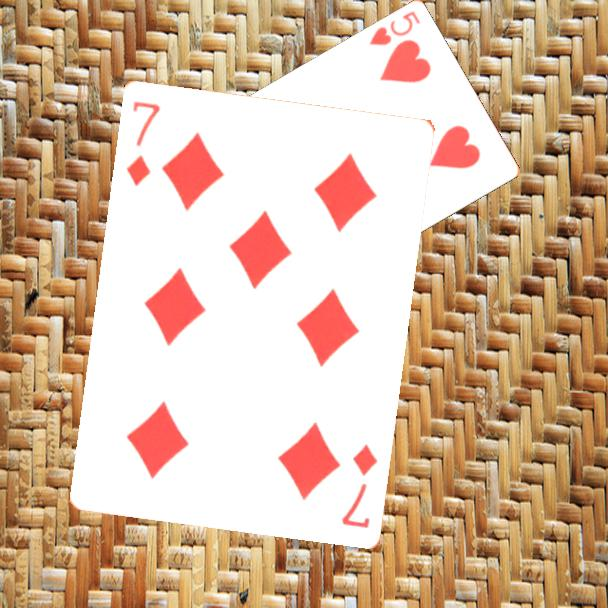d07: (337, 440, 380, 530), (122, 97, 163, 188)
h05: (366, 8, 423, 49)
